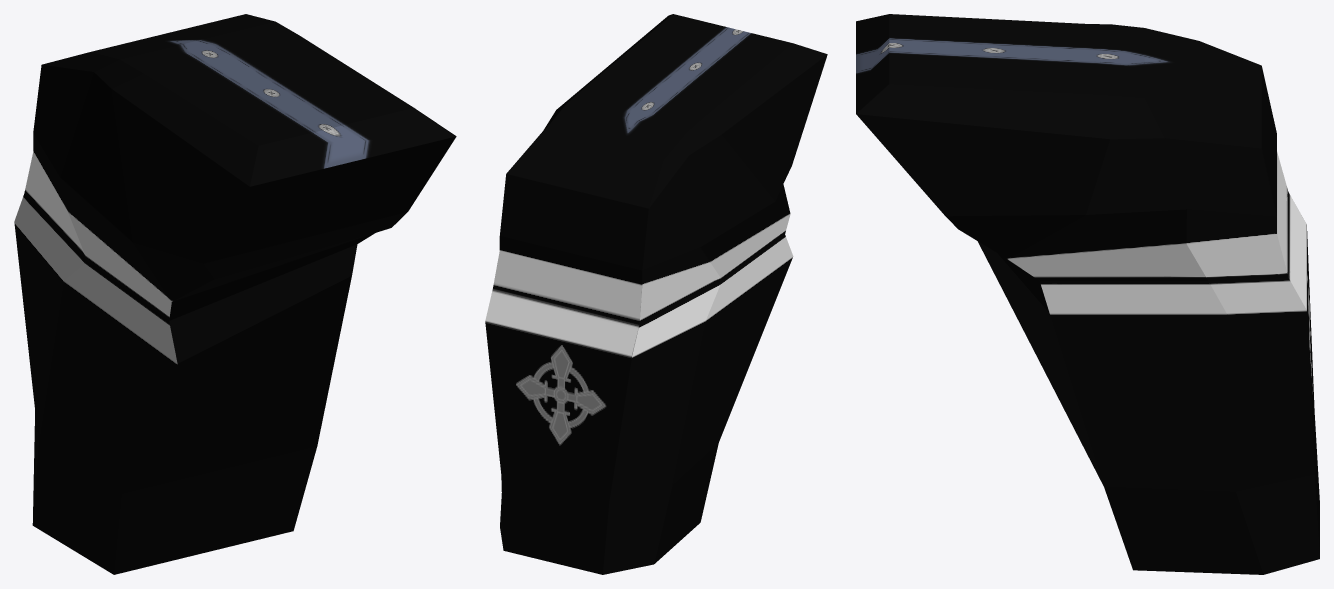
The model's file is leftshoulder.obj.
3 views of the same model, side by side, from view 1: azimuth 30°, elevation 25°; view 2: azimuth 150°, elevation 25°; view 3: azimuth 270°, elevation 25° (orthographic). The views are drawn at different scales.
Visible parts, largest first — view 1: leftshoulder1:pCube2 leftshoulder1:pCube3 leftshoulder1:polySurf; view 2: leftshoulder1:pCube2 leftshoulder1:pCube3 leftshoulder1:polySurf; view 3: leftshoulder1:pCube2 leftshoulder1:pCube3 leftshoulder1:polySurf.
Part boxes in pixels (x1,y1,x2,y2): leftshoulder1:pCube2 leftshoulder1:pCube3 leftshoulder1:polySurf: [14, 14, 456, 574]; leftshoulder1:pCube2 leftshoulder1:pCube3 leftshoulder1:polySurf: [485, 14, 827, 574]; leftshoulder1:pCube2 leftshoulder1:pCube3 leftshoulder1:polySurf: [856, 14, 1319, 574].
Bounding box in the file's own units: 0.4721 × 0.9307 × 0.813.
Materials: 1 (1 with a texture image).
